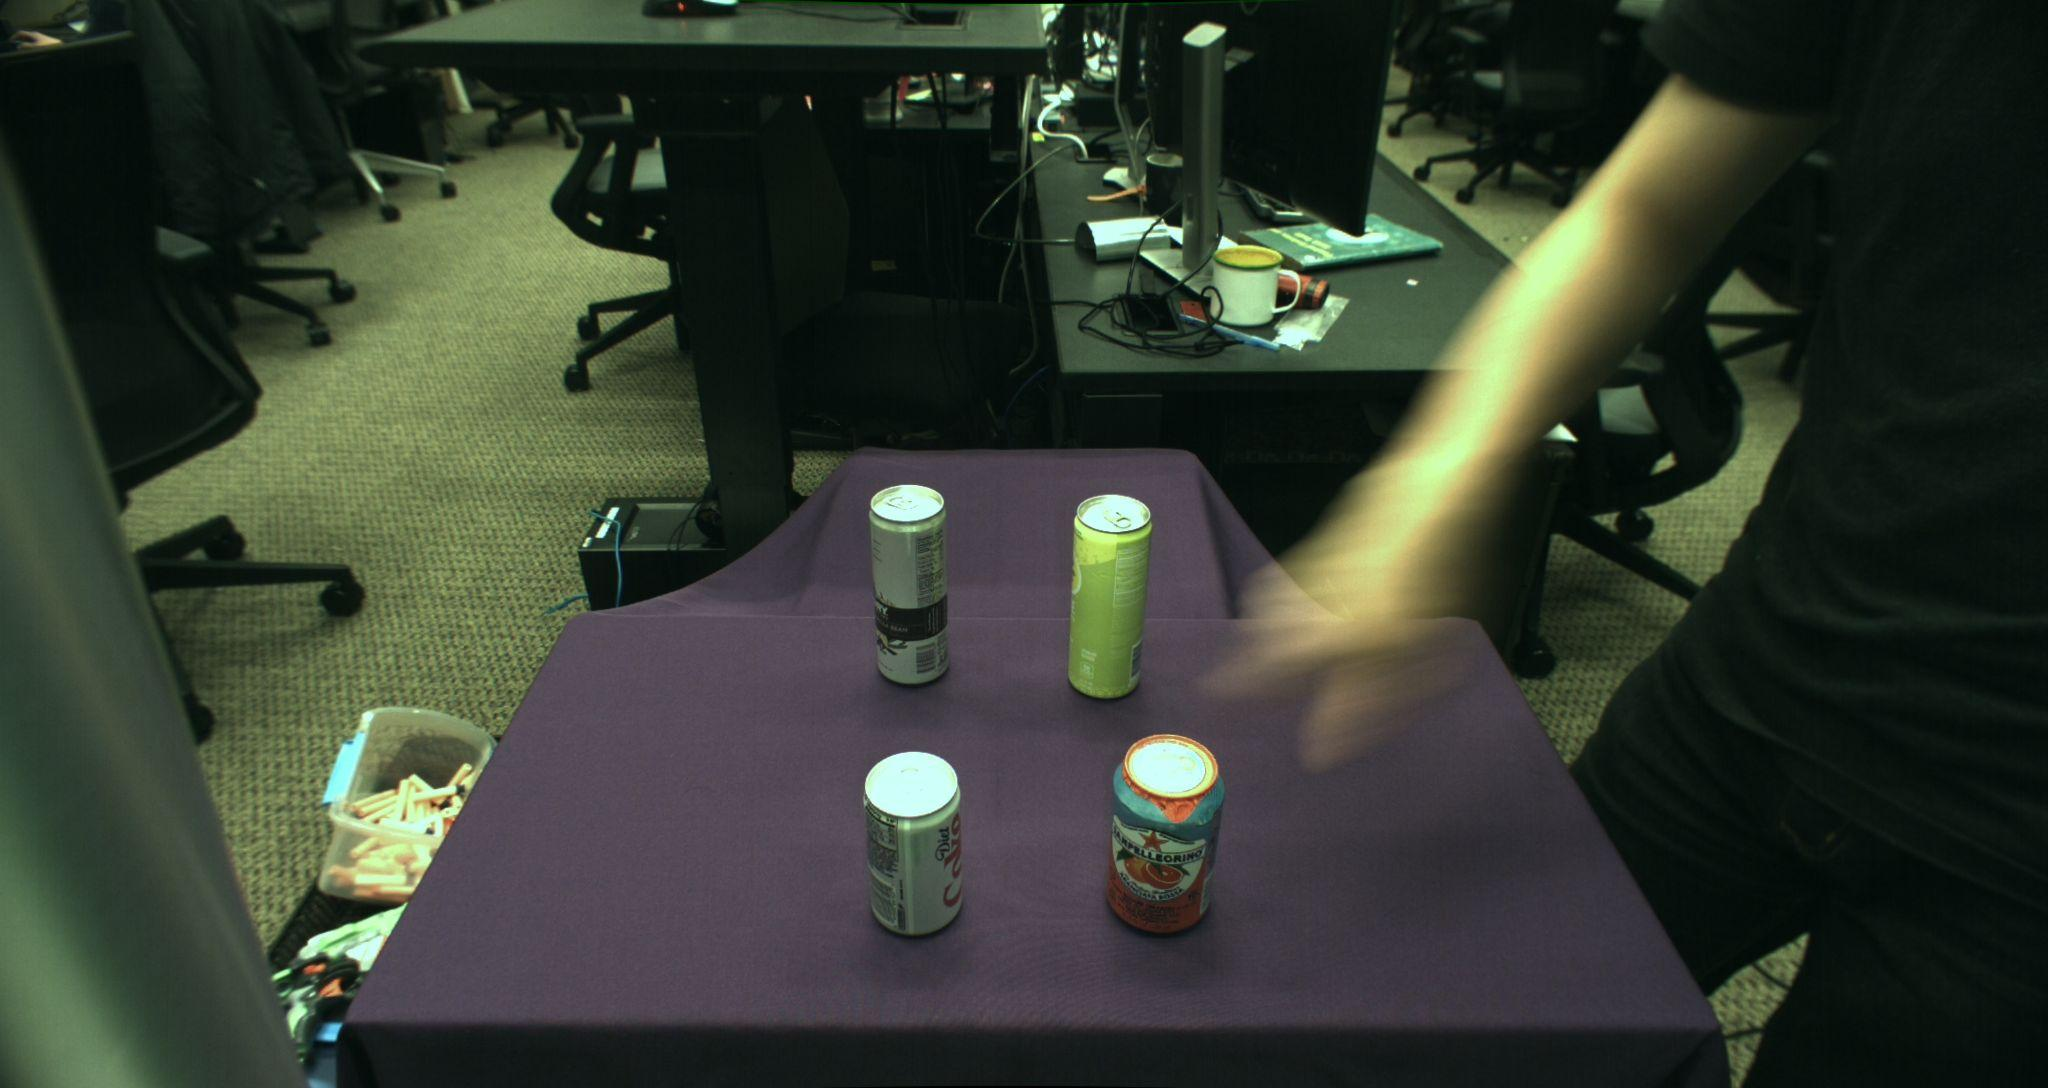can_diet_coke_small: (863, 749, 963, 938)
can_dry_sparkling_vanilla_bean: (867, 481, 952, 686)
can_izze_fusions_lemon_lime: (1067, 492, 1151, 700)
can_sanpellegrino_blood_orange: (1107, 732, 1227, 936)
